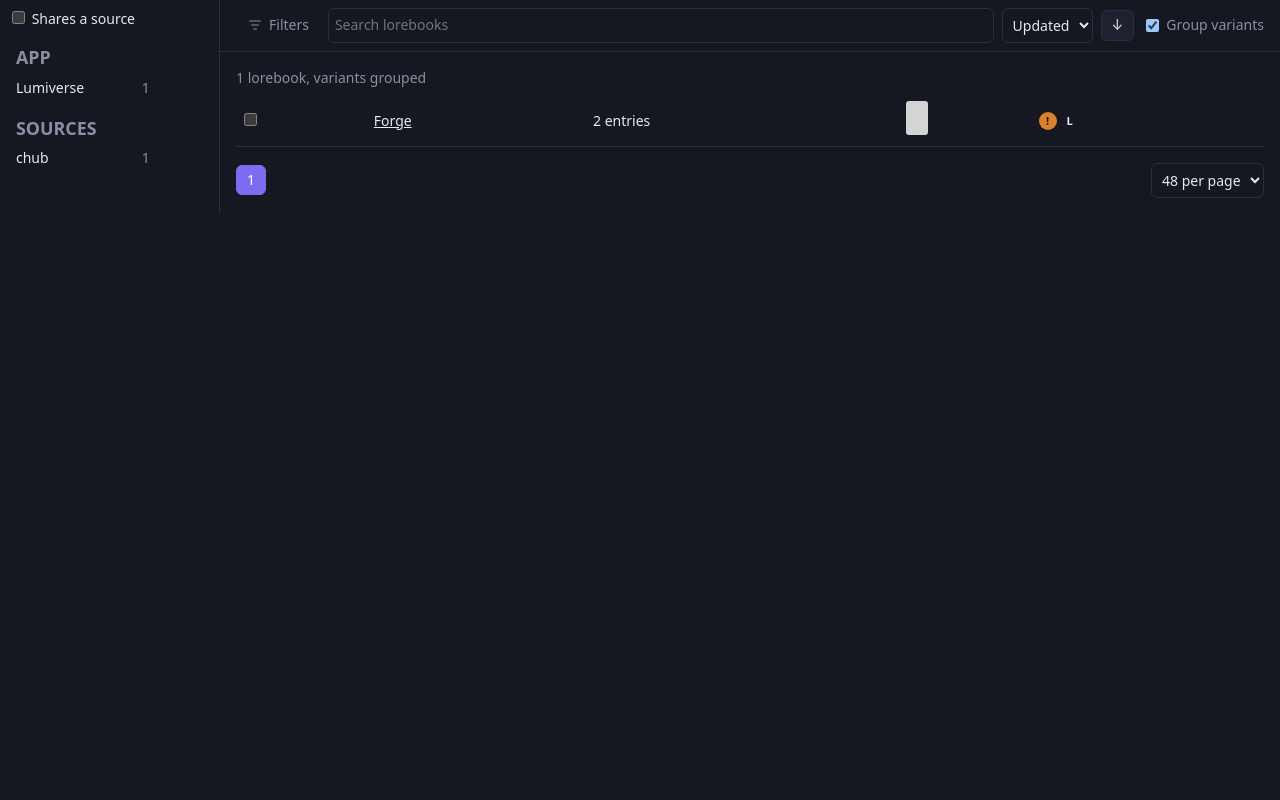
Move to library… moves the picked lorebooks
Click the checkbox named "Select Forge": (250, 120) [244,113,257,126]
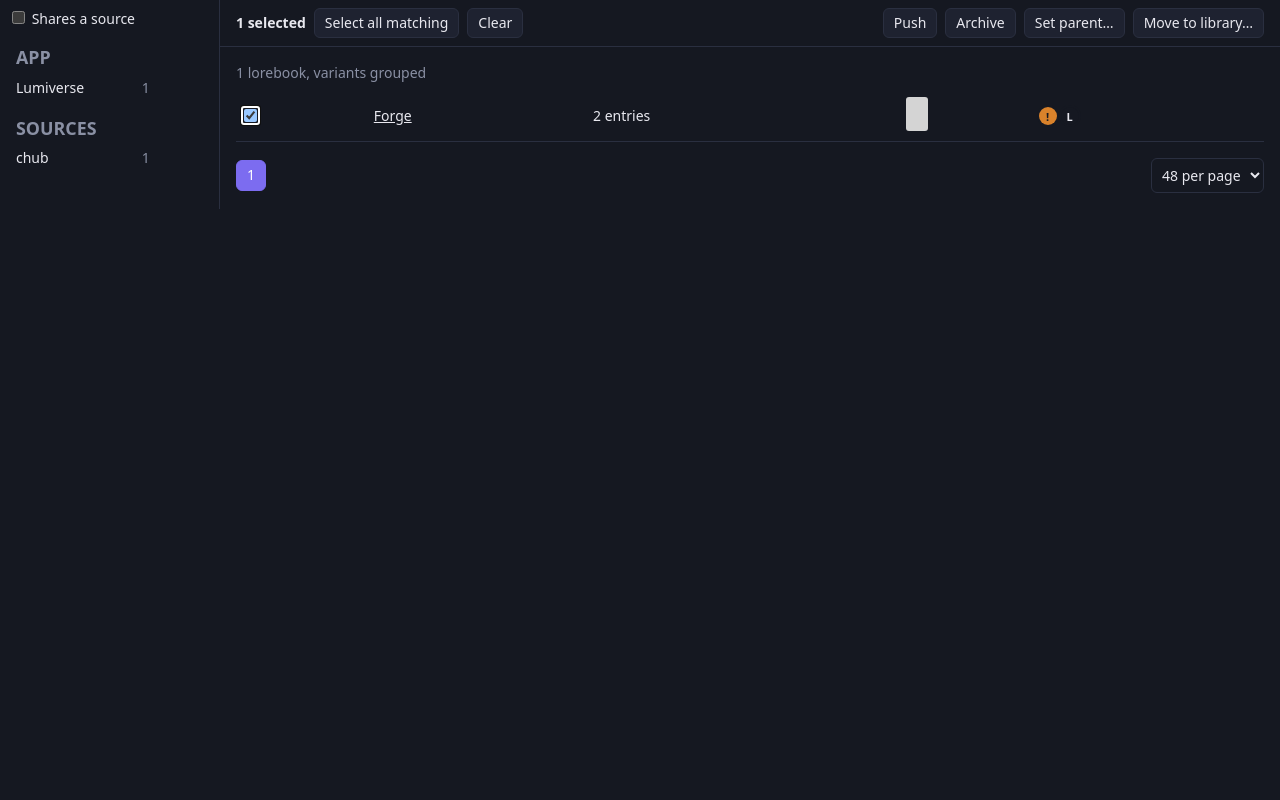
Click the button "Move to library…": (1198, 23) [1133,8,1264,38]
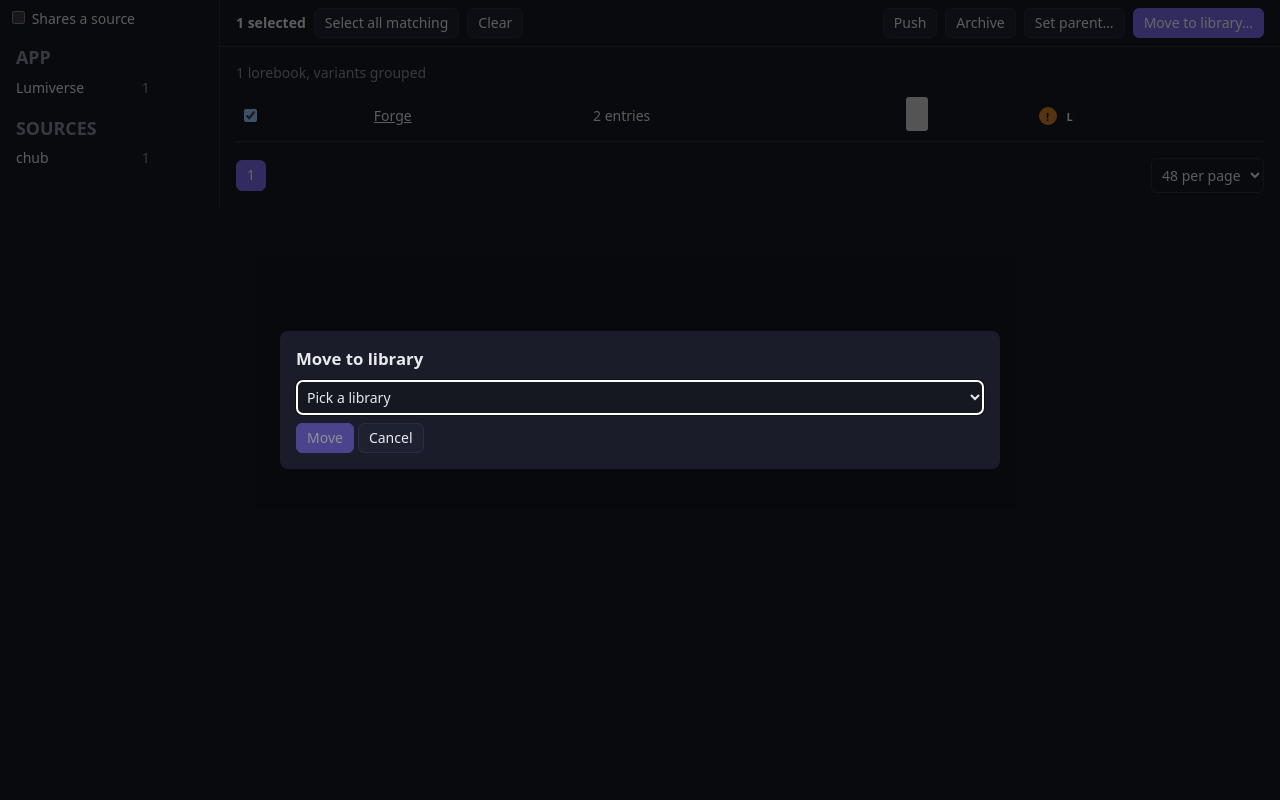
Select "Library 2" in the dropdown named "Library": (640, 397) [296,380,984,414]
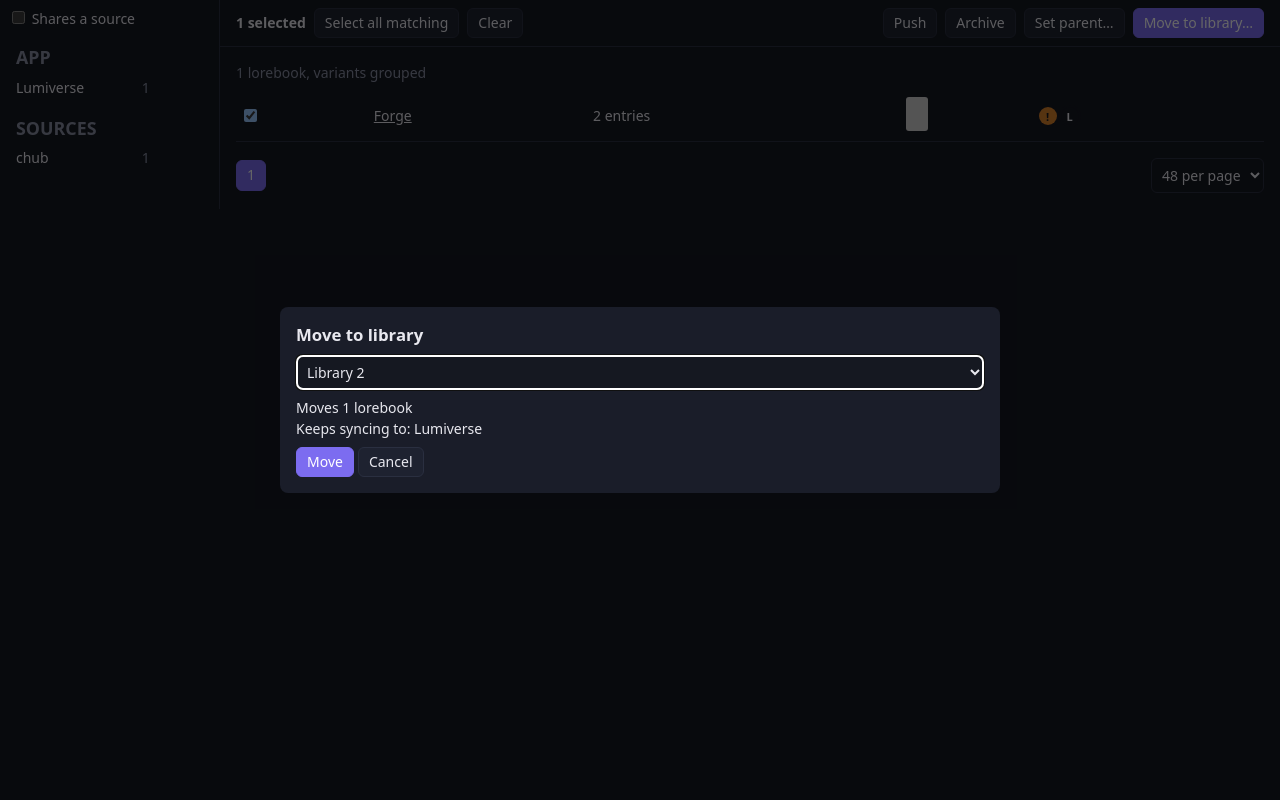
Now the list item "Moves 1 lorebook" is shown, box [296,398,412,417]
Now the list item "Keeps syncing to: Lumiverse" is shown, box [296,418,482,438]
Click the button "Move": (325, 462) [296,447,354,477]
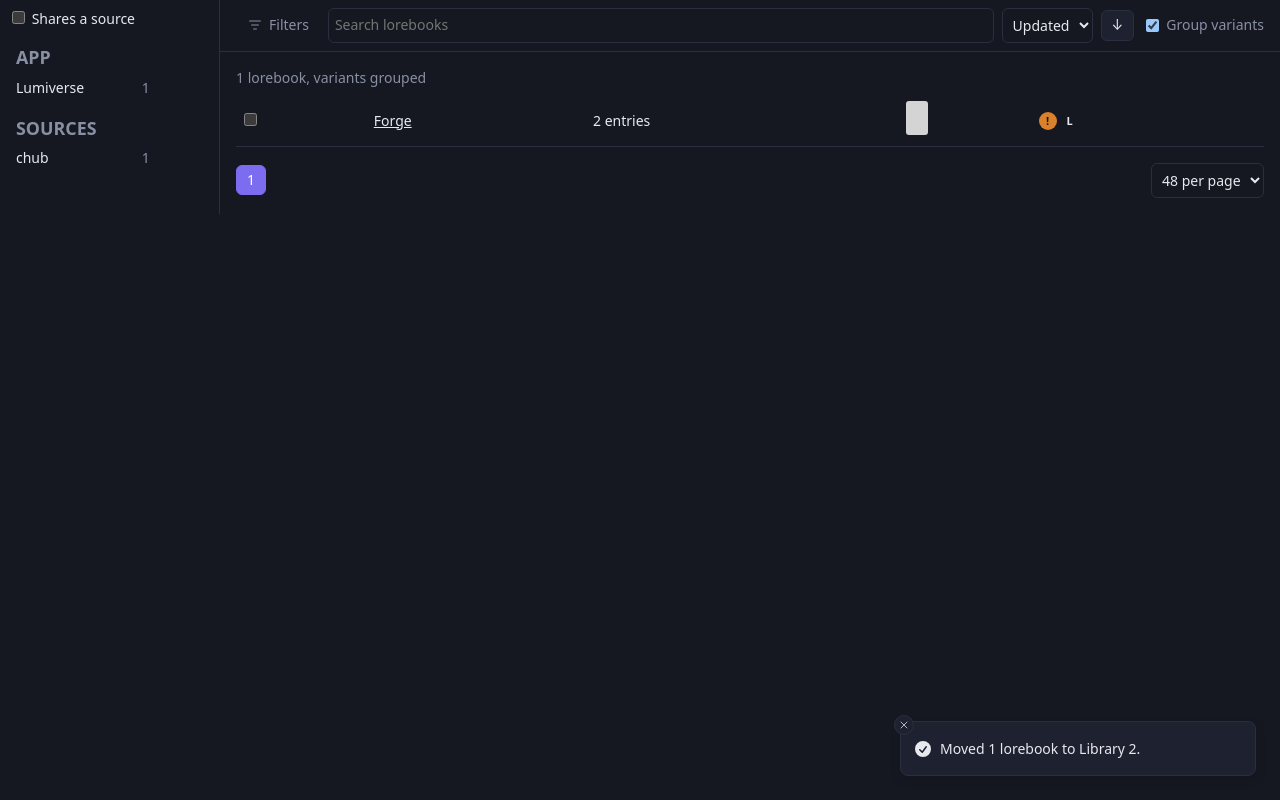
Now the text "Moved 1 lorebook to Library 2." is shown, box [940,738,1140,759]
